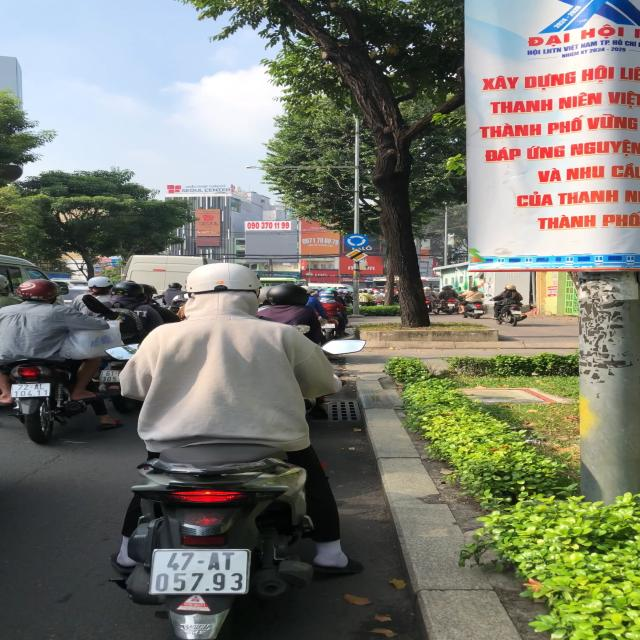Bien bao noi giao nhau chay theo vong xuyen: (340, 232, 372, 248)
